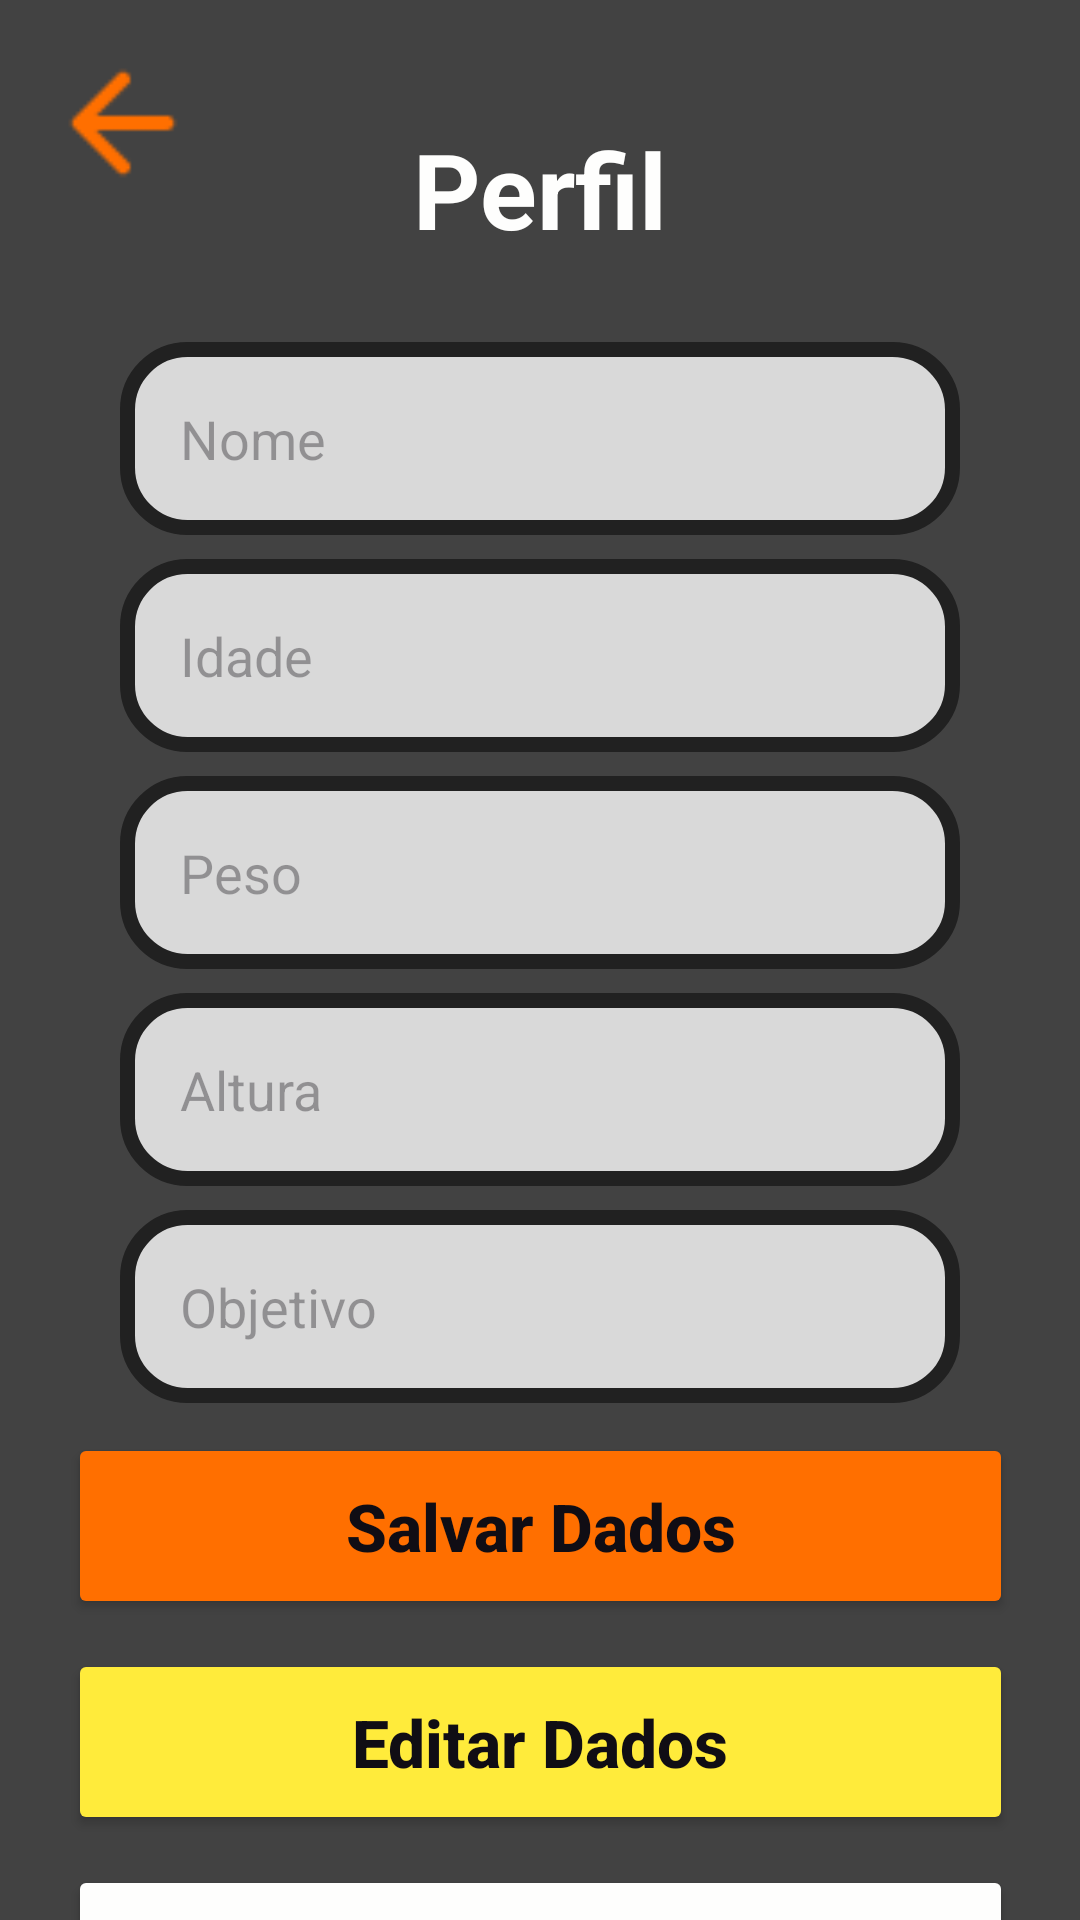

Screen size 1080 x 1920. Icon name, then its box in pixels as [x1,y1,x2,y2]:
seta: [70,70,176,176]
